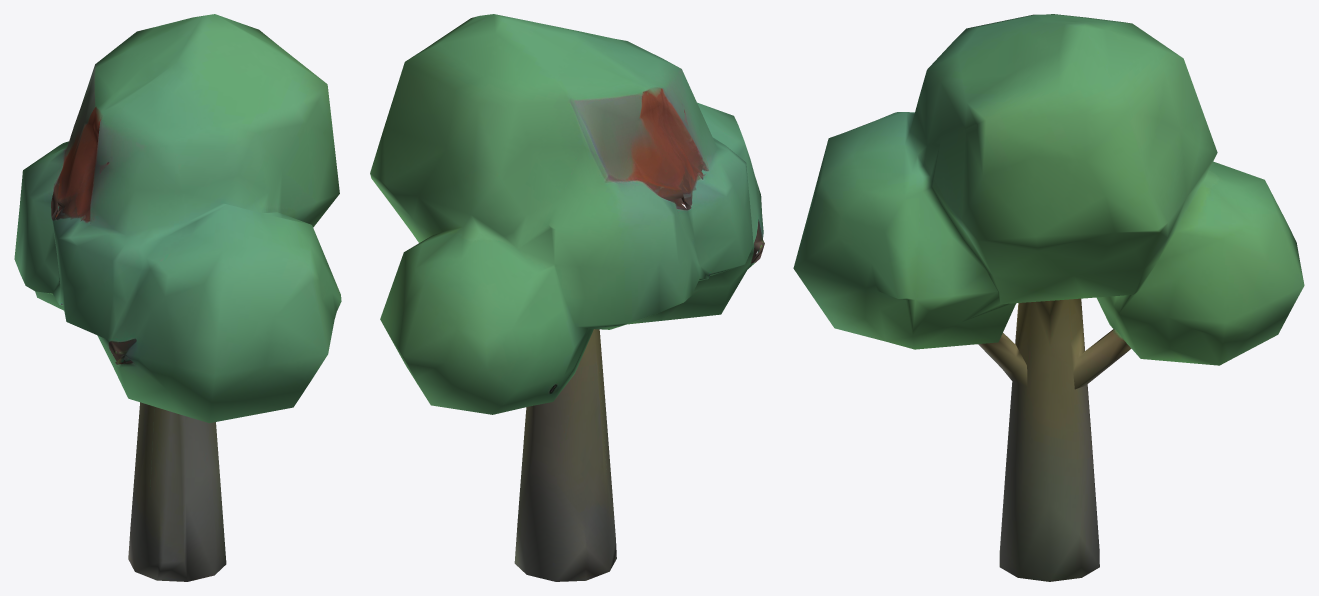
Rendered from tree.glb.
The picture shows the model from 3 angles, left to right: view 1: azimuth 30°, elevation 25°; view 2: azimuth 150°, elevation 25°; view 3: azimuth 270°, elevation 25°; orthographic projection. The views are drawn at different scales.
Parts seen in each view (by area): view 1: tripo_node_9470cc78-24f2-42d2-bf8d-d5dbbdce5eda; view 2: tripo_node_9470cc78-24f2-42d2-bf8d-d5dbbdce5eda; view 3: tripo_node_9470cc78-24f2-42d2-bf8d-d5dbbdce5eda.
Boxes of the visible parts, left/top/right/bottom form: tripo_node_9470cc78-24f2-42d2-bf8d-d5dbbdce5eda: left=14, top=14, right=341, bottom=581; tripo_node_9470cc78-24f2-42d2-bf8d-d5dbbdce5eda: left=370, top=14, right=764, bottom=581; tripo_node_9470cc78-24f2-42d2-bf8d-d5dbbdce5eda: left=793, top=14, right=1304, bottom=581.
Size of the model in its own units: 0.5576 by 0.9994 by 0.8262.
Materials: 1 (1 with a texture image).
